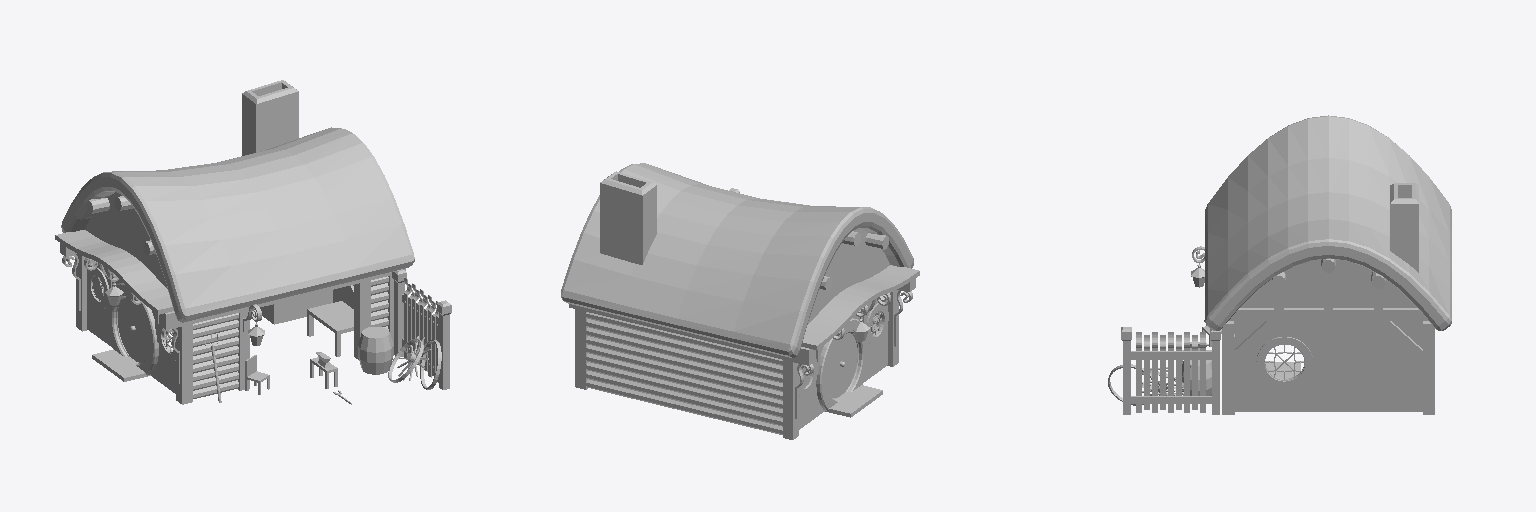
Rendered from rumahtukang.obj.
The picture shows the model from 3 angles: view 1: azimuth 30°, elevation 25°; view 2: azimuth 150°, elevation 25°; view 3: azimuth 270°, elevation 25°; orthographic projection.
Visible parts, largest first — view 1: Object_Blksmith_jpg; view 2: Object_Blksmith_jpg; view 3: Object_Blksmith_jpg.
Part boxes in pixels (bbox=[...]): Object_Blksmith_jpg: bbox=[55, 80, 451, 404]; Object_Blksmith_jpg: bbox=[561, 163, 919, 439]; Object_Blksmith_jpg: bbox=[1108, 115, 1451, 414].
Bounding box in the file's own units: 2.09 × 1.65 × 2.5.